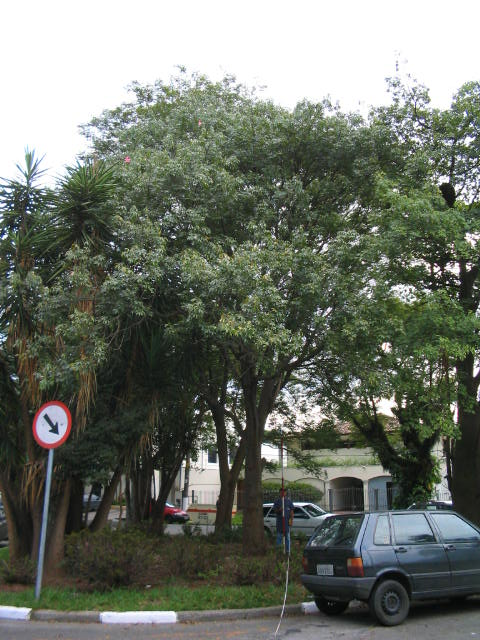crown: (74, 65, 471, 443)
stem: (237, 412, 278, 555)
stick: (274, 436, 290, 557)
tree: (71, 64, 473, 556)
